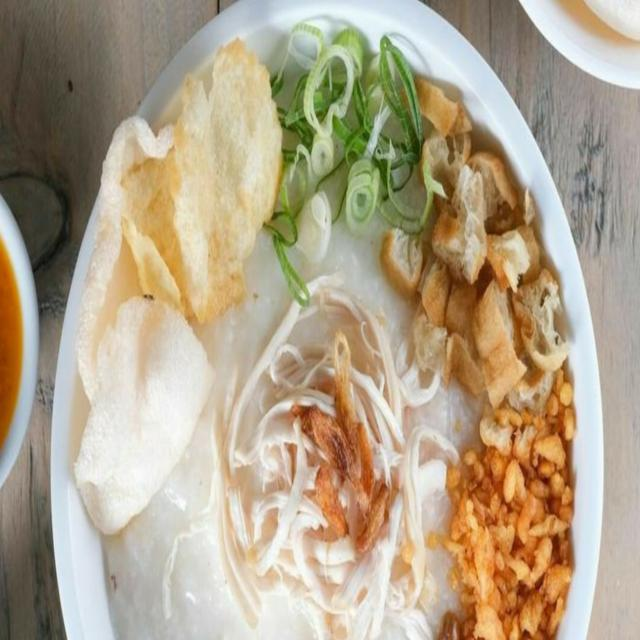bubur ayam: (71, 35, 580, 640)
mangkuk: (51, 4, 609, 632), (0, 193, 40, 493)
